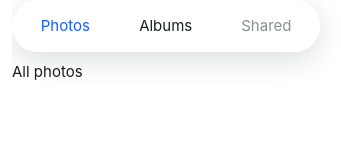
Test: liquid Tabs › keeps Radix selection and the lens copy in sync
Press the mouse on the tab "Albums" at [166, 26], box [116,6,215,46]
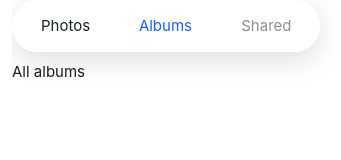
Expected: the panel reads "All albums", [12,62,85,81]
Expected: the 1st tab "Albums" is shown, [116,6,215,46]
